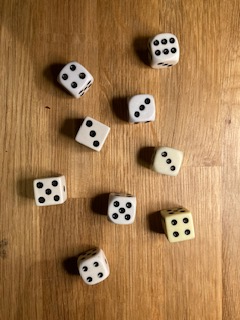five: (31, 174, 70, 207), (104, 190, 139, 226)
four: (54, 60, 96, 99), (158, 205, 198, 243), (75, 246, 112, 286)
six: (145, 32, 182, 71)
three: (72, 115, 112, 153), (151, 142, 185, 181), (126, 93, 158, 125)
